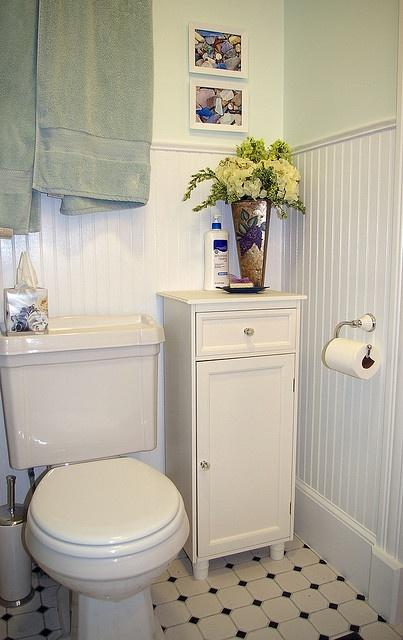Lemari: (190, 295, 300, 565)
